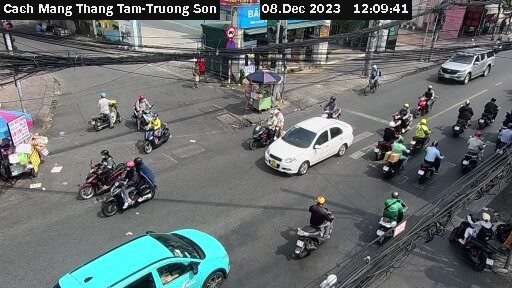car: (54, 226, 243, 288), (265, 113, 355, 175), (438, 42, 503, 89)
motorbike: (279, 204, 339, 257), (97, 168, 171, 209), (451, 210, 495, 269), (69, 154, 122, 188), (455, 130, 493, 173), (240, 109, 283, 146), (80, 95, 121, 130), (365, 192, 401, 231), (407, 86, 452, 117), (134, 117, 176, 148), (382, 143, 415, 180), (414, 146, 446, 182), (445, 105, 481, 135), (313, 96, 352, 122), (126, 98, 165, 121), (384, 103, 417, 129), (477, 96, 505, 123)
